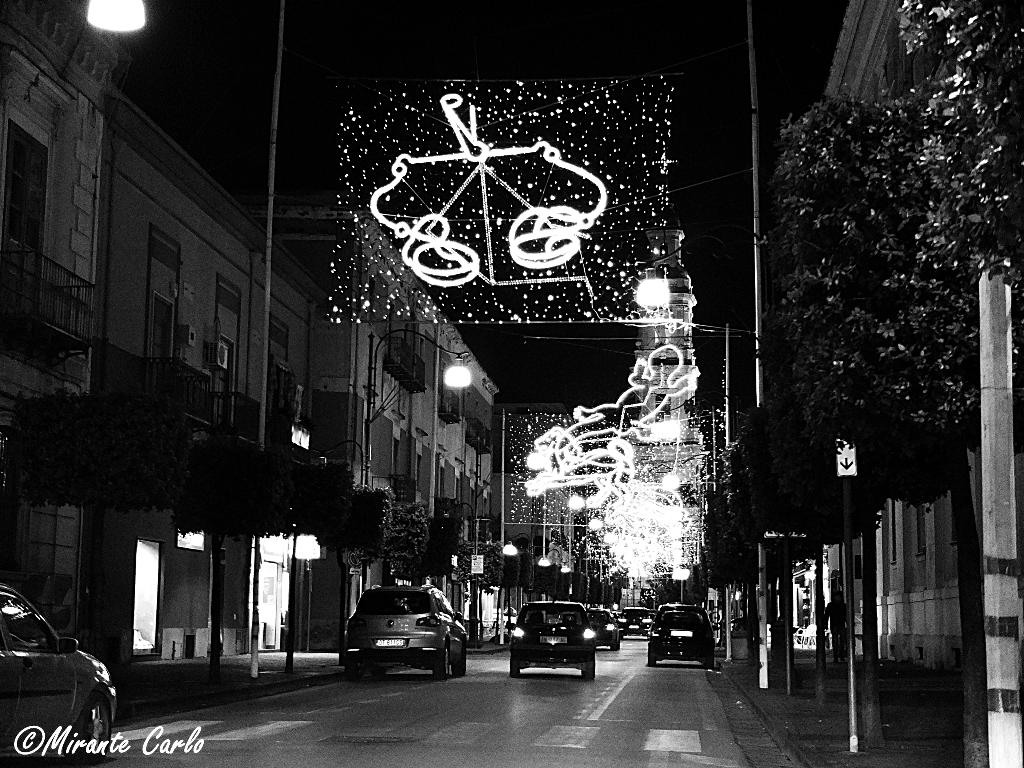Car: (0, 586, 117, 758), (331, 588, 462, 682), (507, 597, 593, 676), (650, 602, 716, 673), (595, 603, 619, 647)
